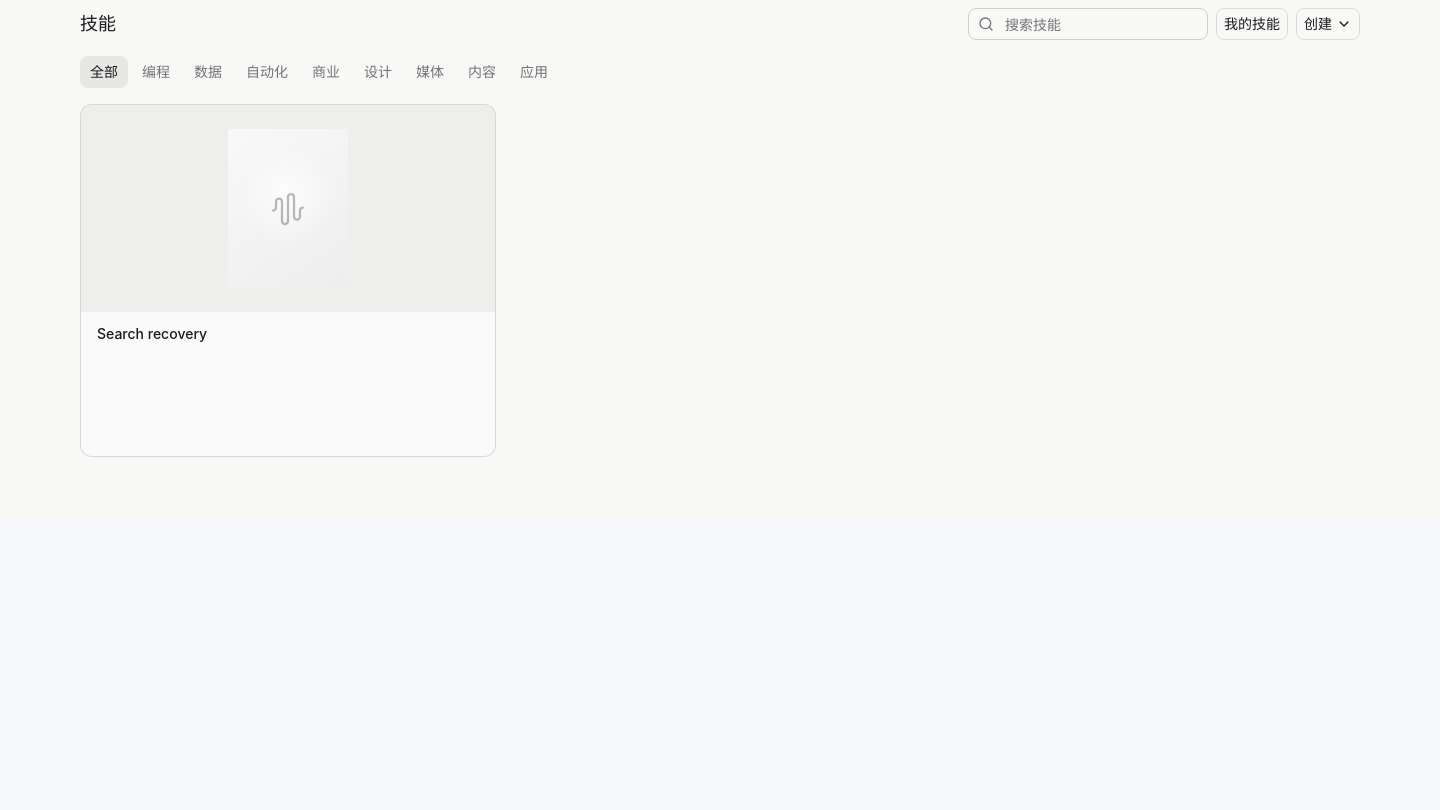
keeps a failed marketplace pending detail quiet and recovers its exact selection through normal search re-entry
Type "Search" into the search field labelled "搜索技能" at x=1088, y=24, box [968, 8, 1208, 40]
Click the button "Search recovery" at x=152, y=334, box [97, 324, 207, 344]
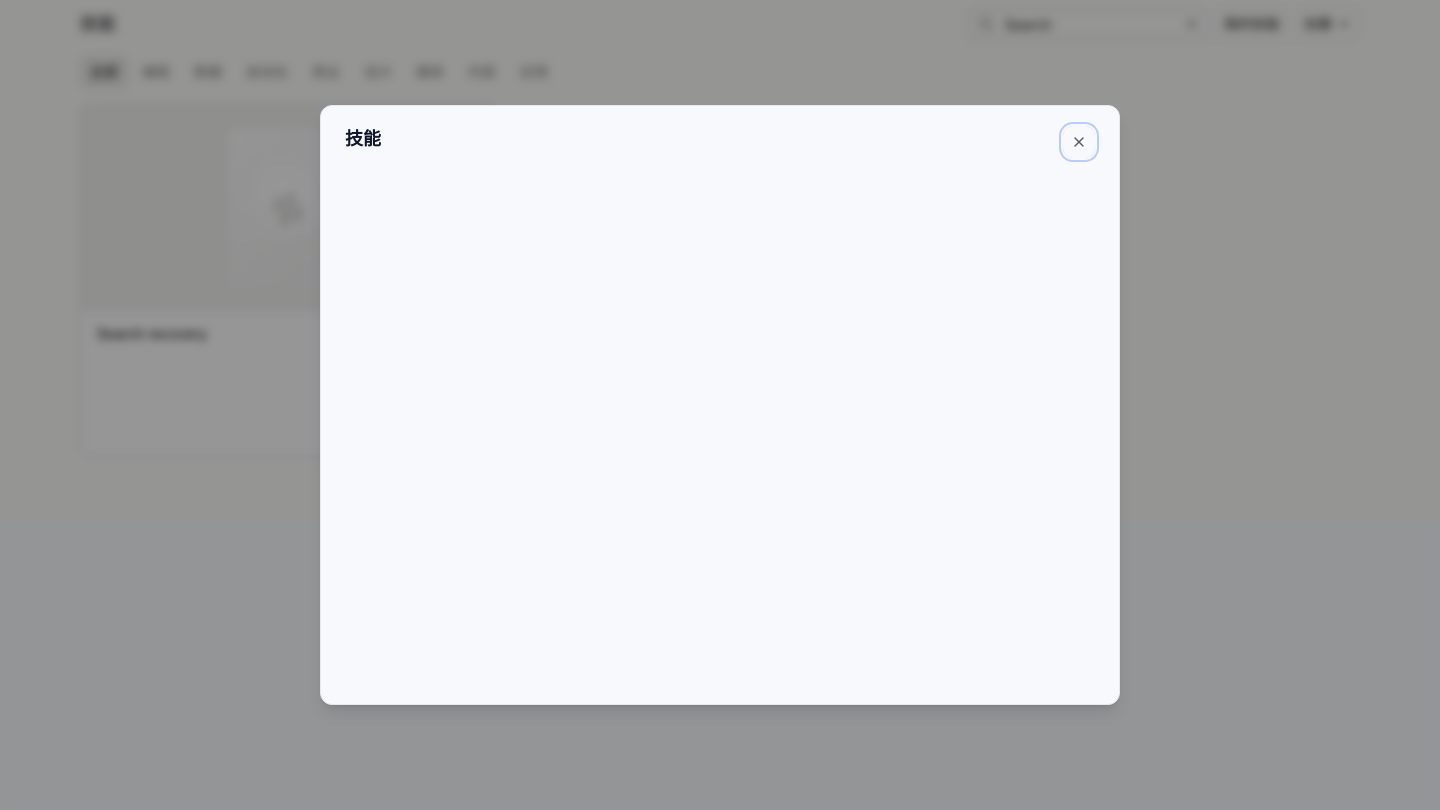
Press Escape in the dialog, box [320, 105, 1120, 705]
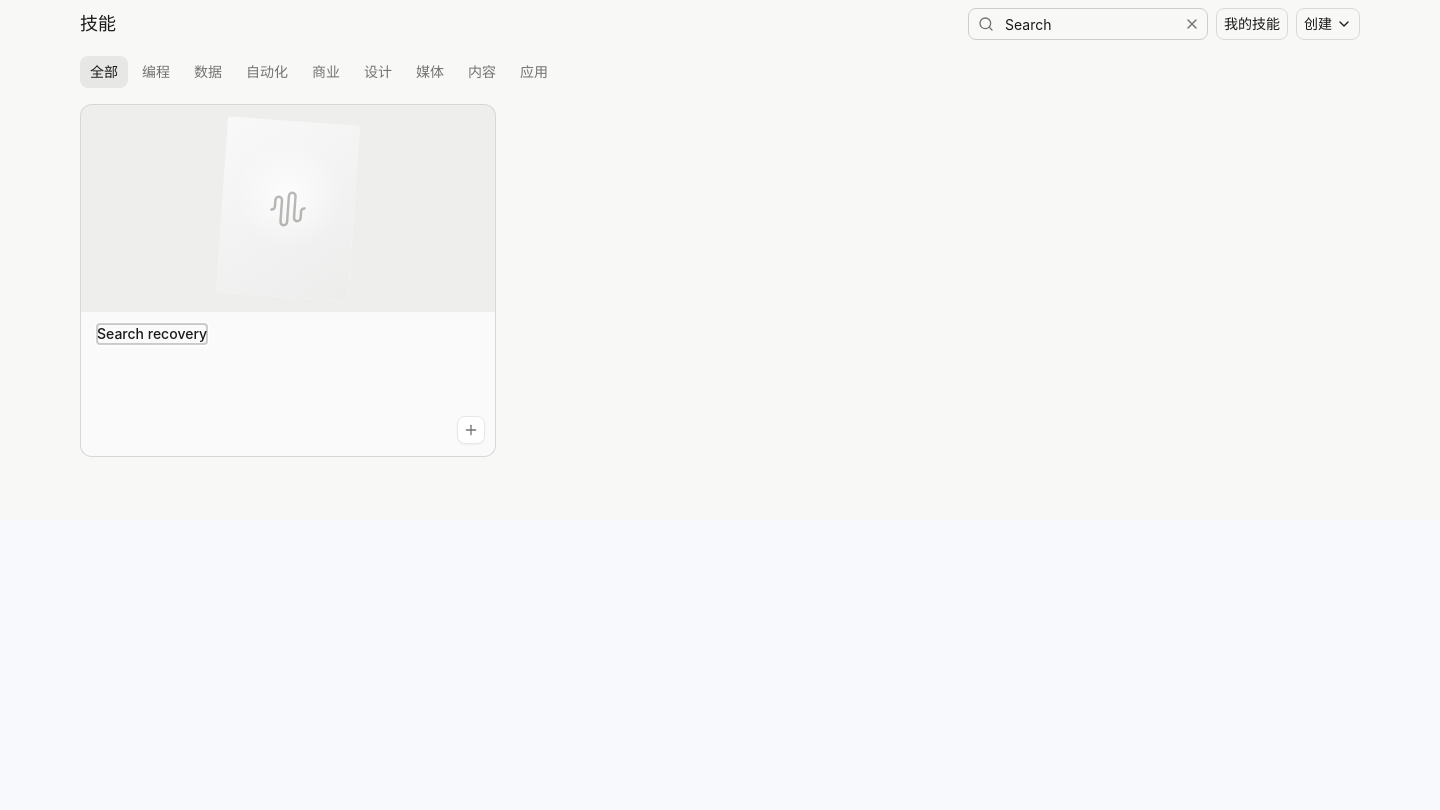
Expected: the dialog is gone
Clear the search field named "搜索技能" at x=1088, y=24, box [968, 8, 1208, 40]
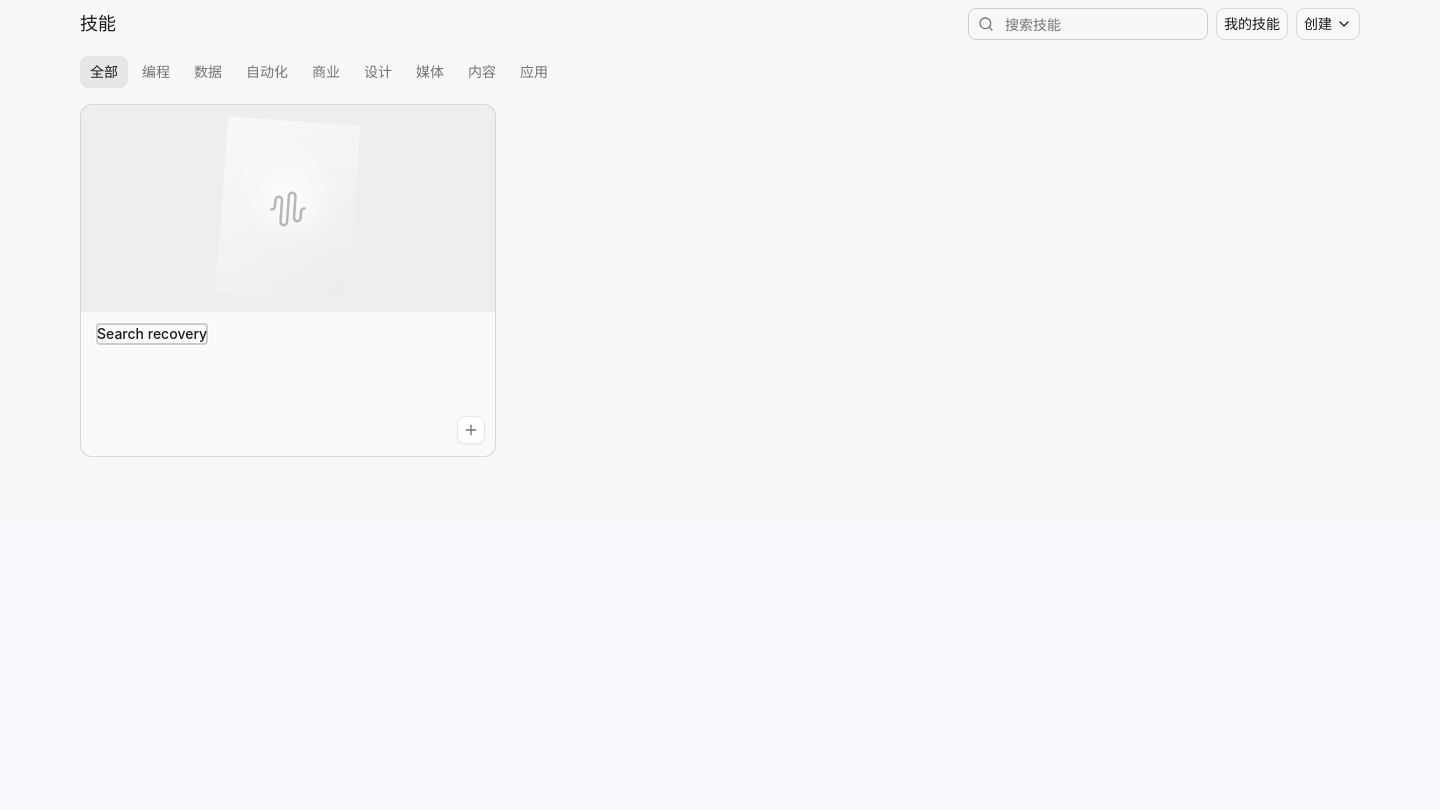
Type "Search" into the search field labelled "搜索技能" at x=1088, y=24, box [968, 8, 1208, 40]
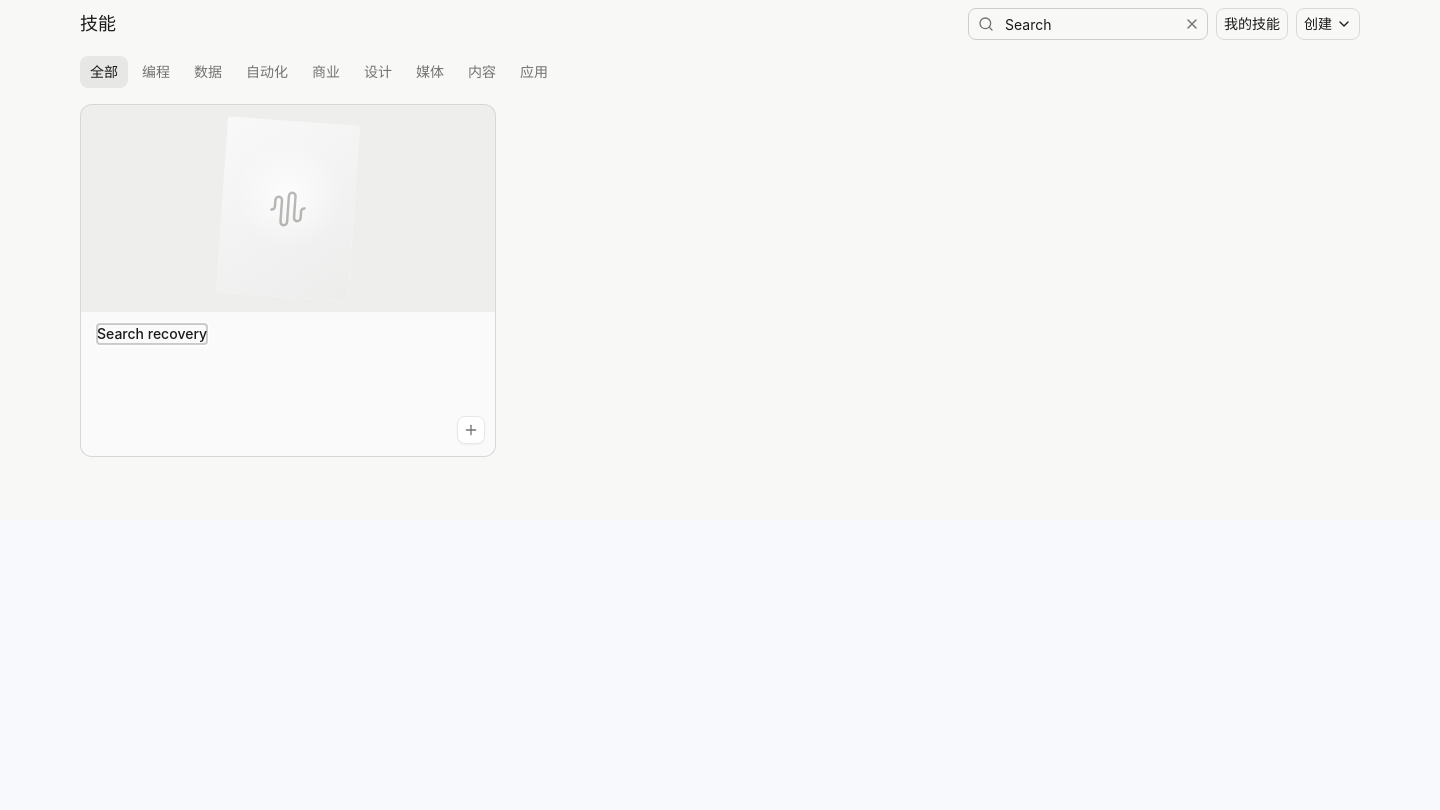
Click the button "Search recovery" at x=152, y=334, box [97, 324, 207, 344]
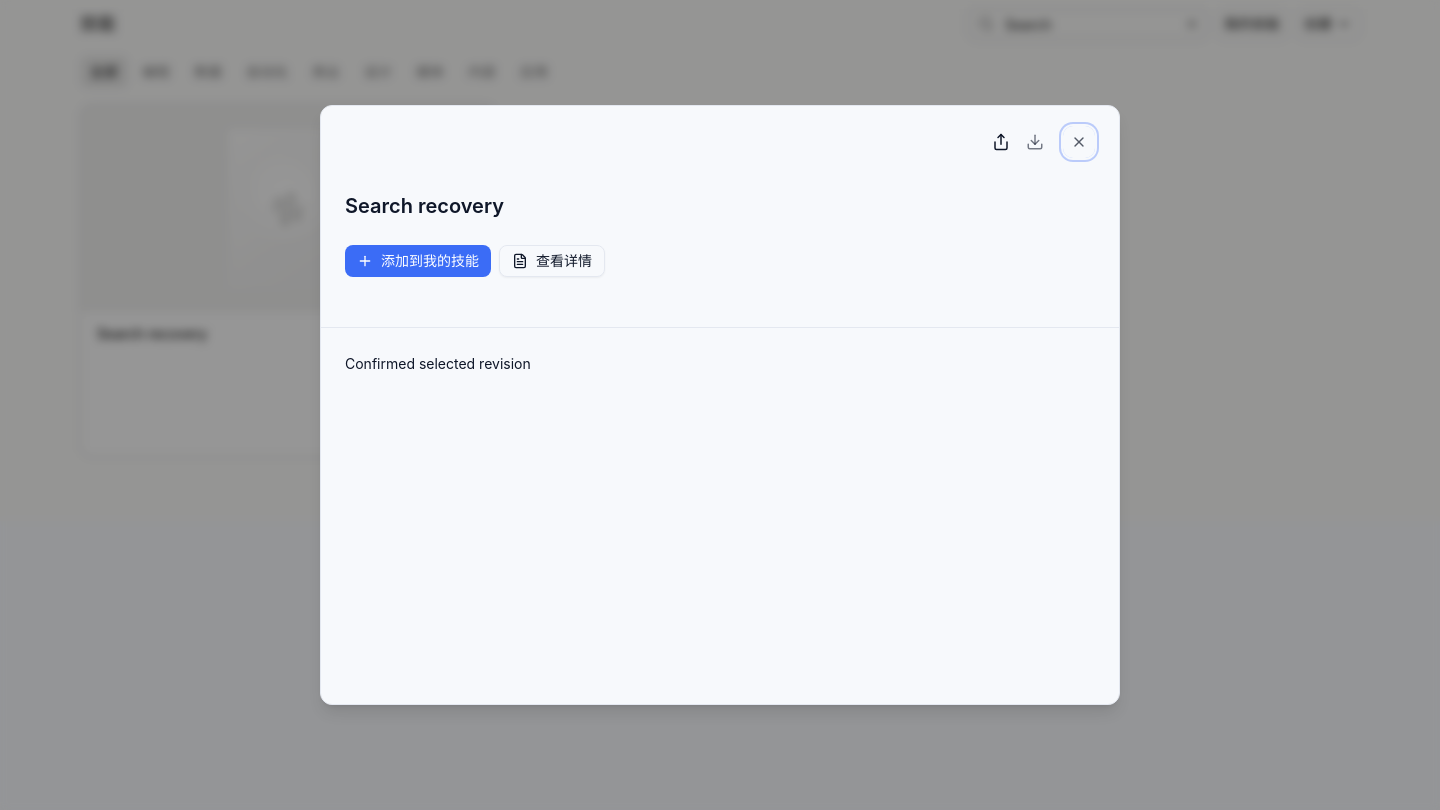
Expected: the text "Confirmed selected revision" is shown, [345, 355, 531, 372]
Press Escape in the dialog, box [320, 105, 1120, 705]
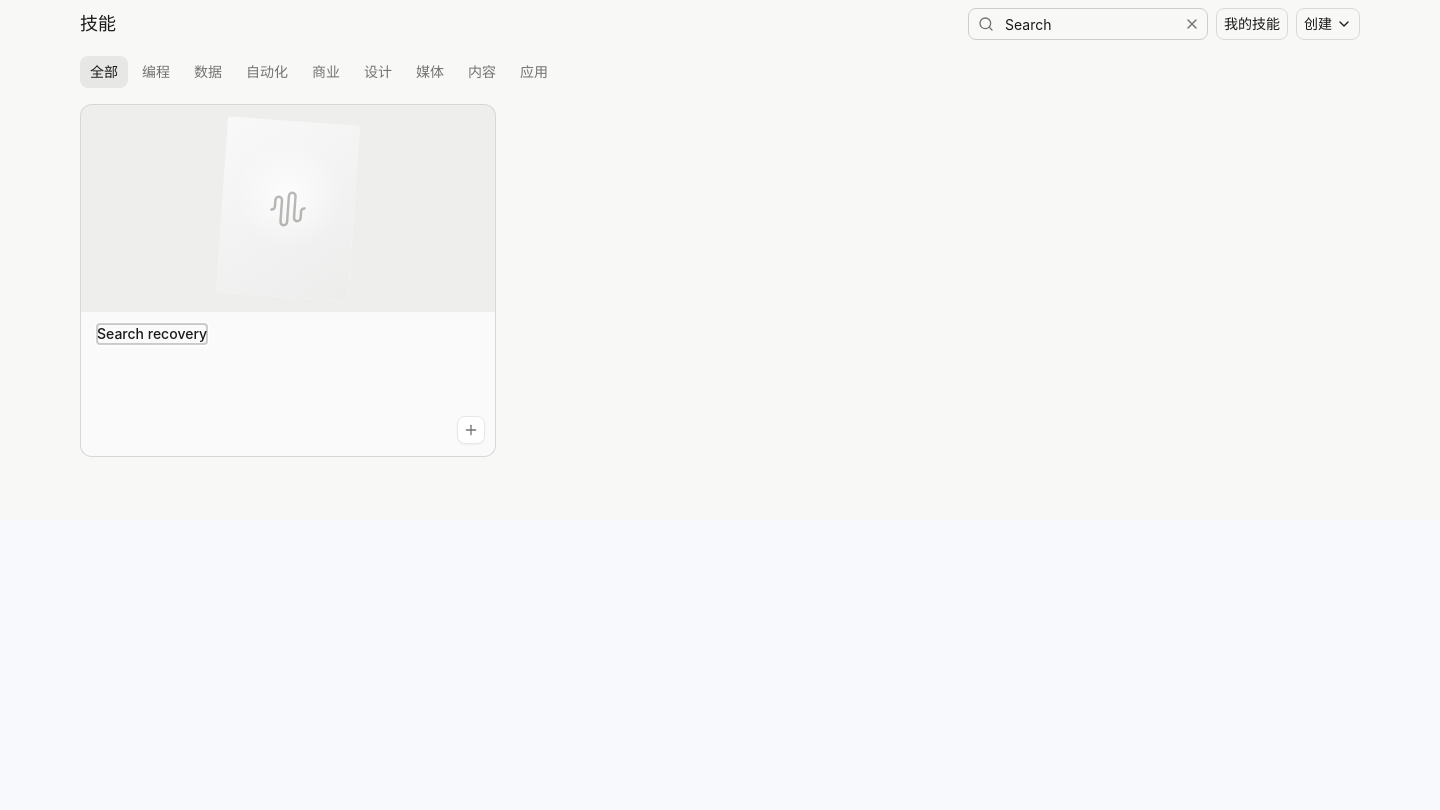
Expected: the dialog is gone
